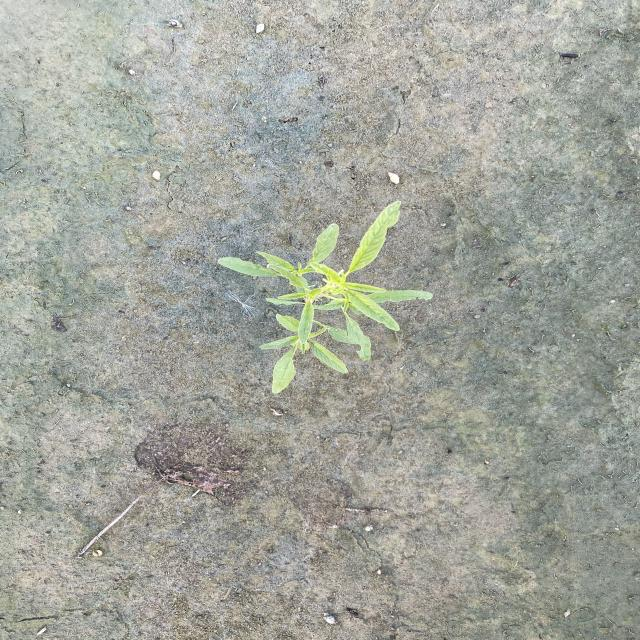Waterhemp: (216, 200, 435, 396)
